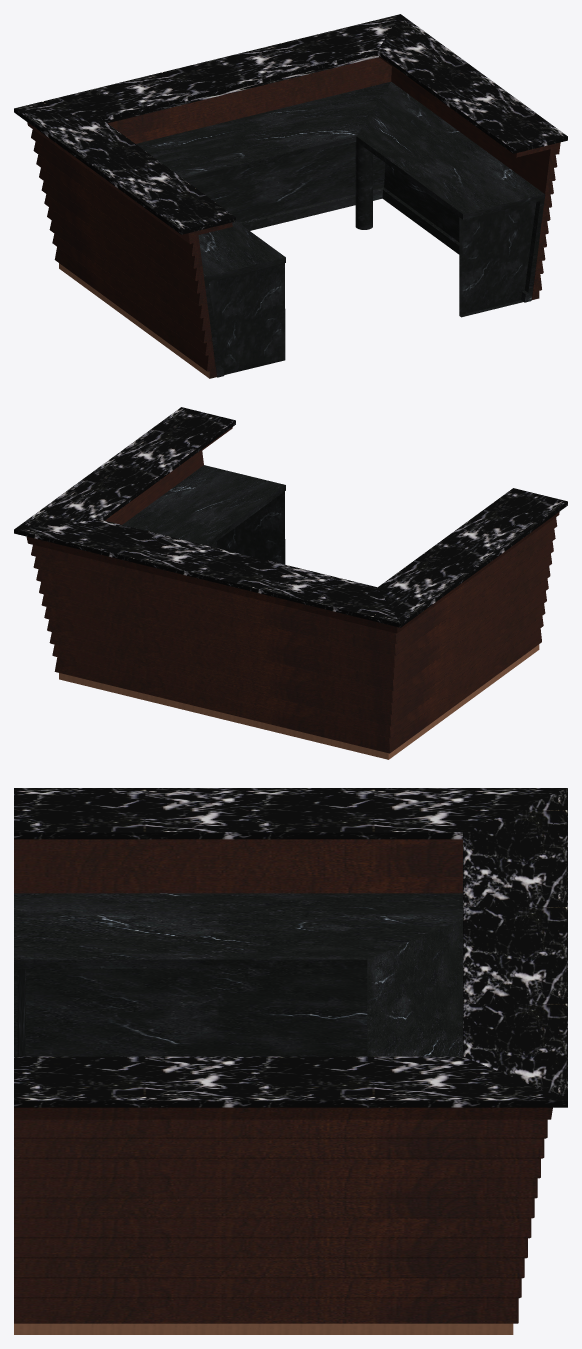
File: bar_table.gltf
3 views of the same model, one above another, from view 1: azimuth 30°, elevation 25°; view 2: azimuth 150°, elevation 25°; view 3: azimuth 270°, elevation 25° (orthographic). The views are drawn at different scales.
Visible parts, largest first — view 1: bar_table; view 2: bar_table; view 3: bar_table.
Boxes of the visible parts, <box> form: bar_table: <box>14,14,567,378</box>; bar_table: <box>14,407,567,759</box>; bar_table: <box>14,788,567,1334</box>.
Bounding box in the file's own units: 2.23 × 0.8634 × 1.67.
4 materials, 4 textured.
